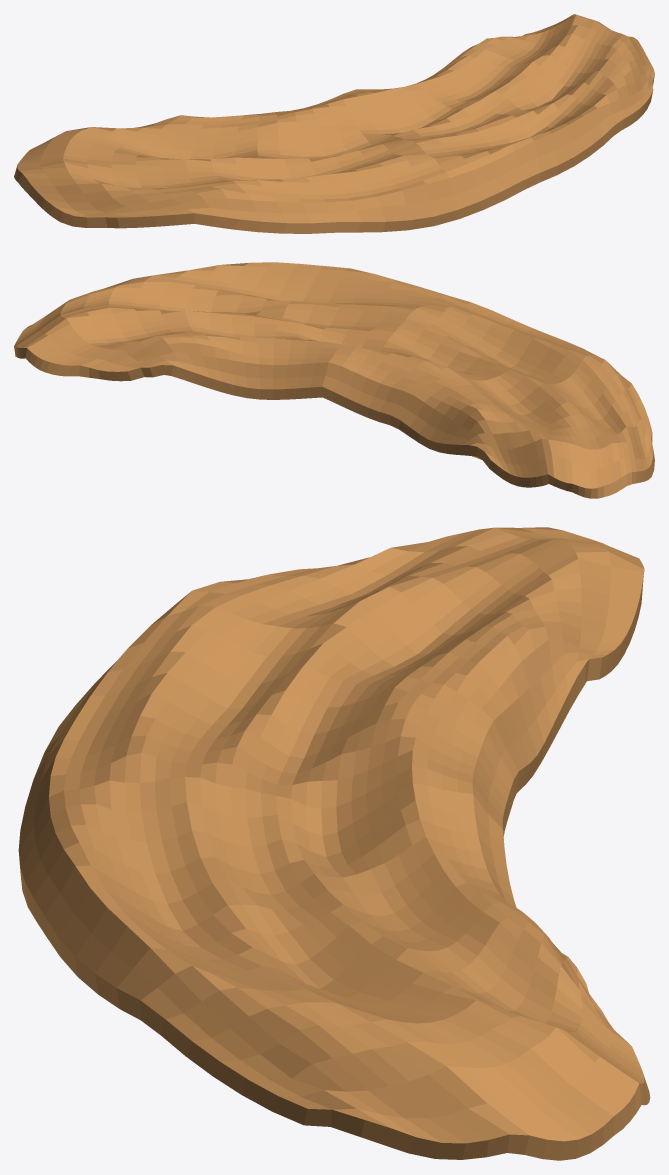
Rendered from SandPatch4_small.fbx.
3 views of the same model, one above another, from view 1: azimuth 30°, elevation 25°; view 2: azimuth 150°, elevation 25°; view 3: azimuth 270°, elevation 25° (orthographic). The views are drawn at different scales.
Parts seen in each view (by area): view 1: SandPatch4_small; view 2: SandPatch4_small; view 3: SandPatch4_small.
Boxes of the visible parts, x1,y1,x2,y2 form: SandPatch4_small: (14,14,654,233); SandPatch4_small: (14,262,654,498); SandPatch4_small: (18,527,650,1160).
Bounding box in the file's own units: 62.45 × 28.02 × 5.51.
